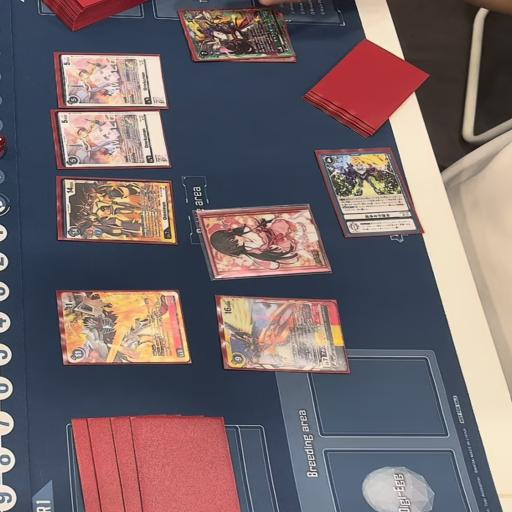card: (210, 294, 356, 378), (54, 289, 189, 368), (316, 146, 430, 234), (54, 176, 171, 252), (52, 108, 171, 168), (179, 8, 300, 66), (55, 51, 169, 109)
